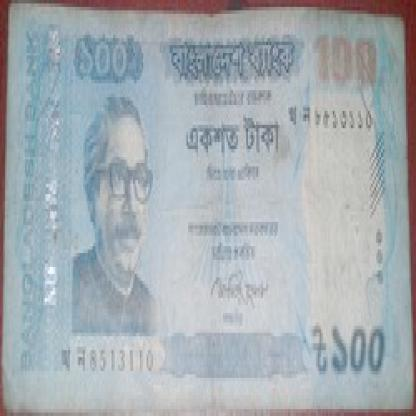one hundred taka: (304, 21, 382, 97), (72, 35, 145, 94), (330, 315, 390, 378)
